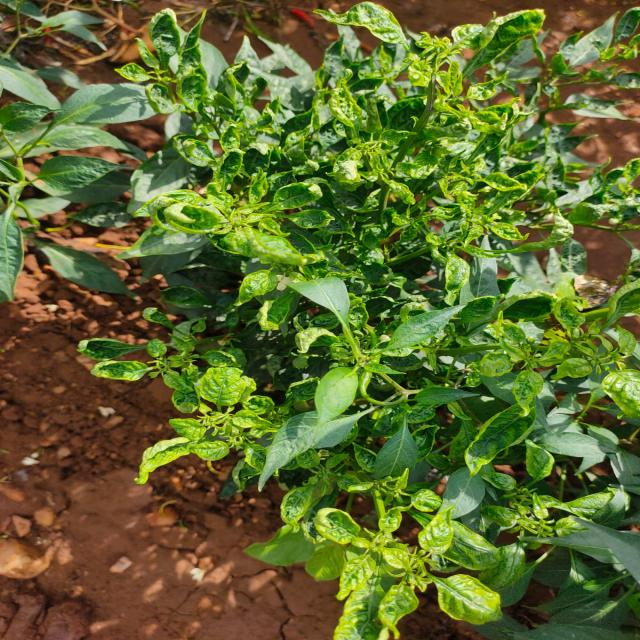Moko: (42, 0, 626, 262), (242, 460, 499, 640), (96, 259, 283, 502), (249, 230, 468, 434), (467, 230, 640, 425)
